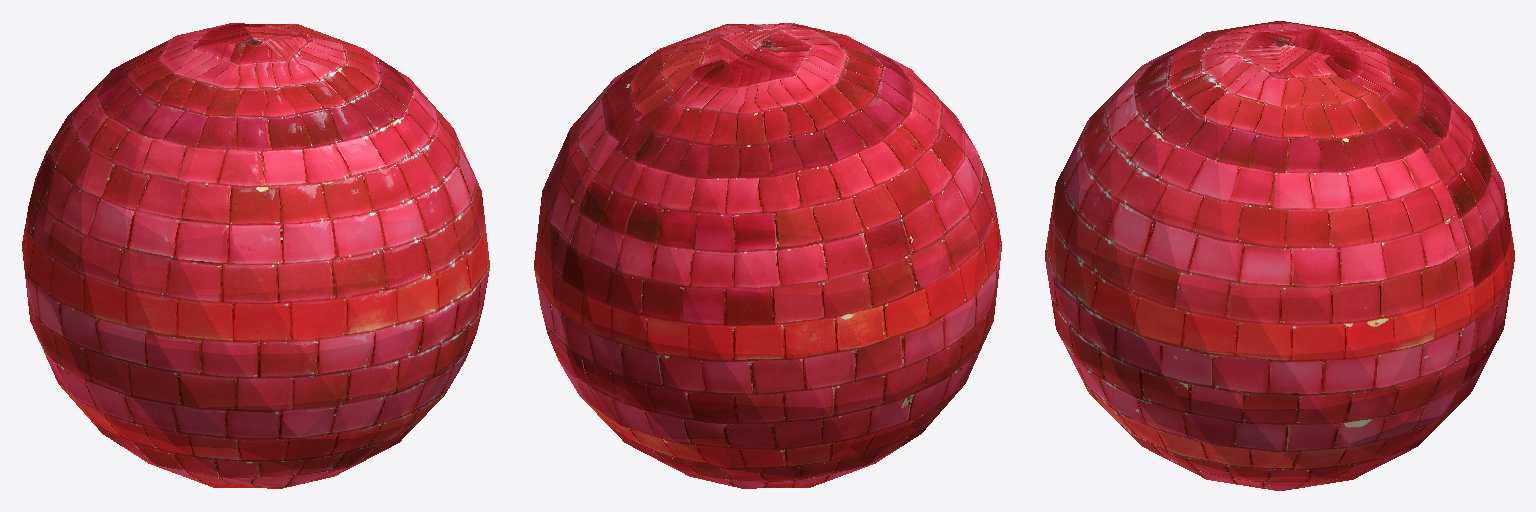
3 renders of one model, left to right at view 1: azimuth 30°, elevation 25°; view 2: azimuth 150°, elevation 25°; view 3: azimuth 270°, elevation 25°, orthographic.
Visible parts, largest first — view 1: Icosphere; view 2: Icosphere; view 3: Icosphere.
Boxes of the visible parts, <box> form: Icosphere: <box>22,23,489,488</box>; Icosphere: <box>534,23,1001,488</box>; Icosphere: <box>1045,21,1514,490</box>.
Bounding box in the file's own units: 2 × 2 × 2.
Materials: 1 (1 with a texture image).